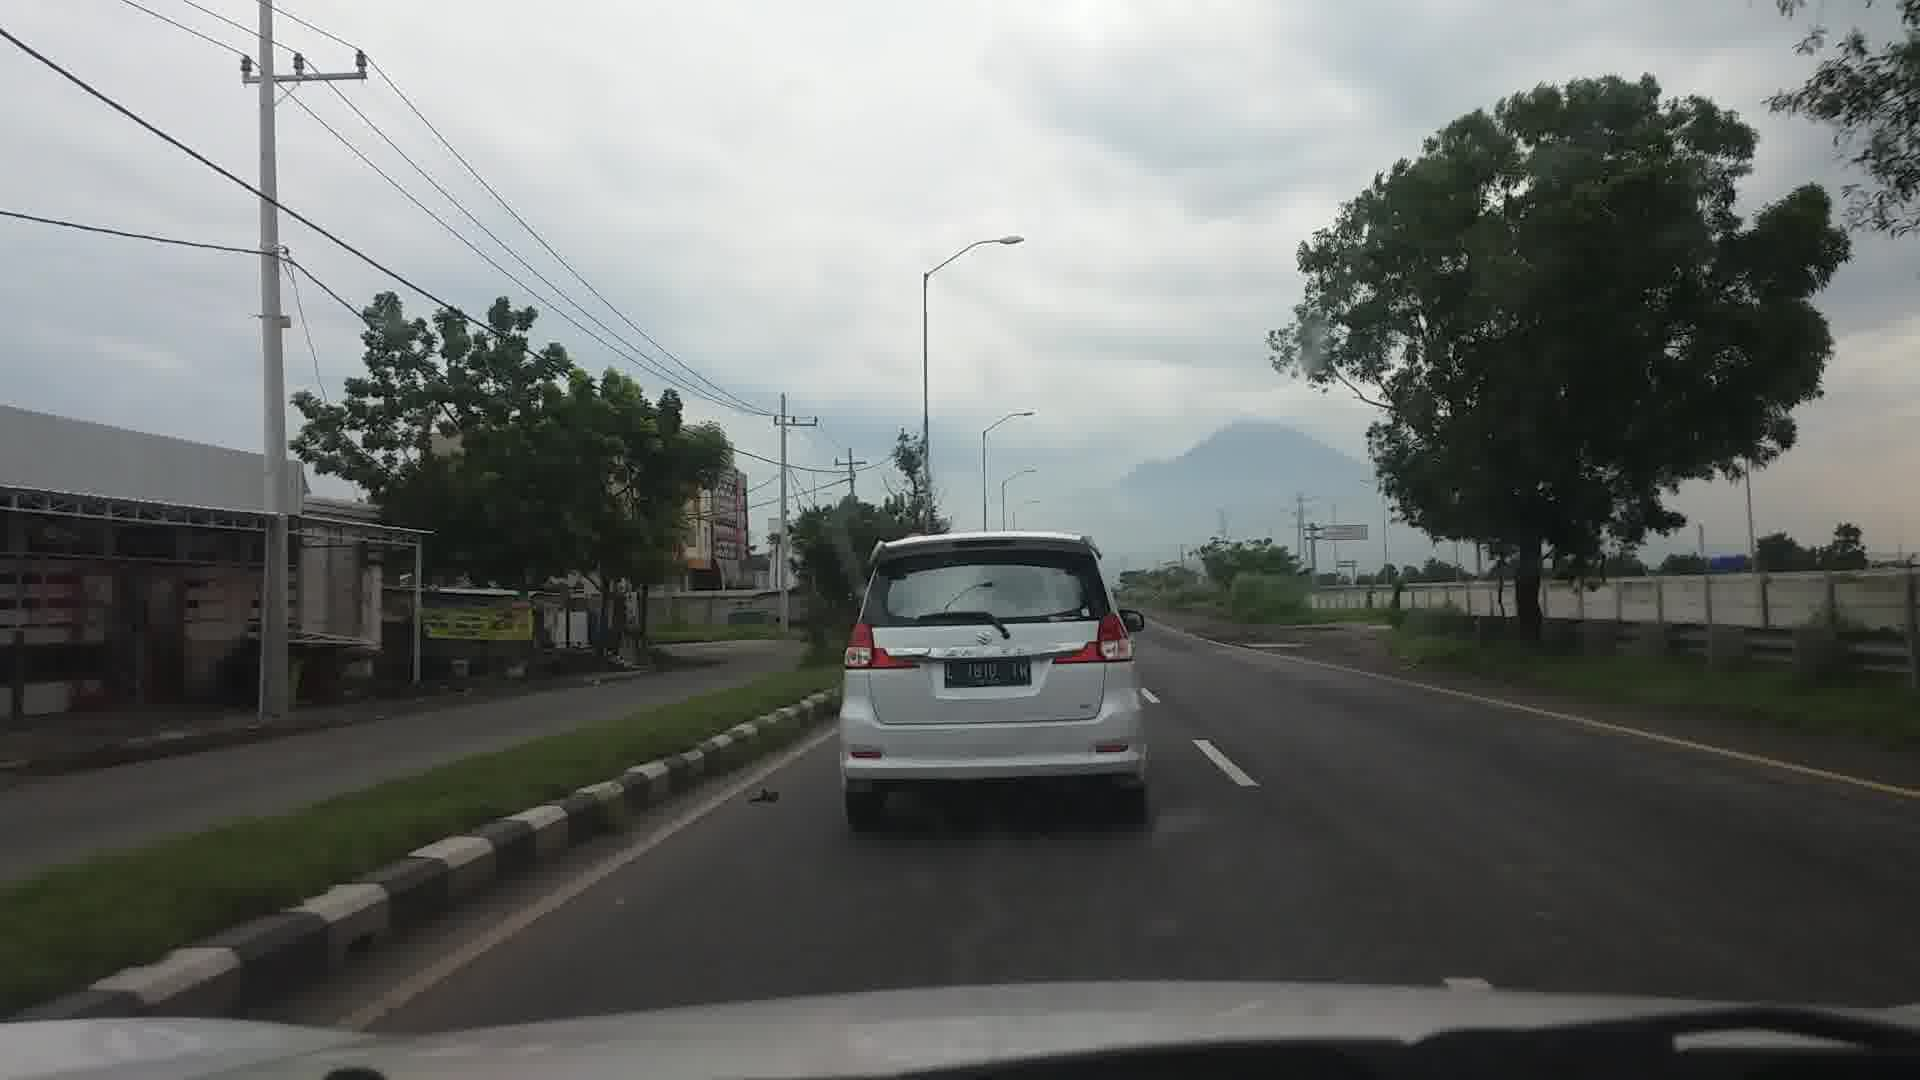plate_positive: (943, 659, 1033, 688)
